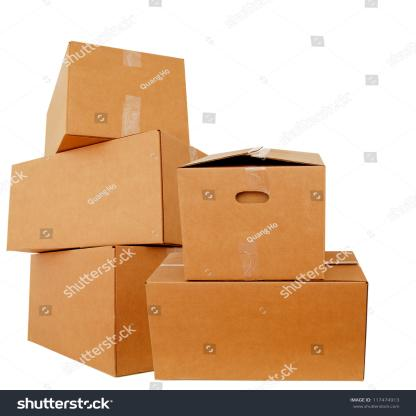box: (143, 281, 369, 382), (6, 127, 162, 252), (178, 165, 325, 283), (64, 41, 188, 142), (28, 247, 118, 378)
